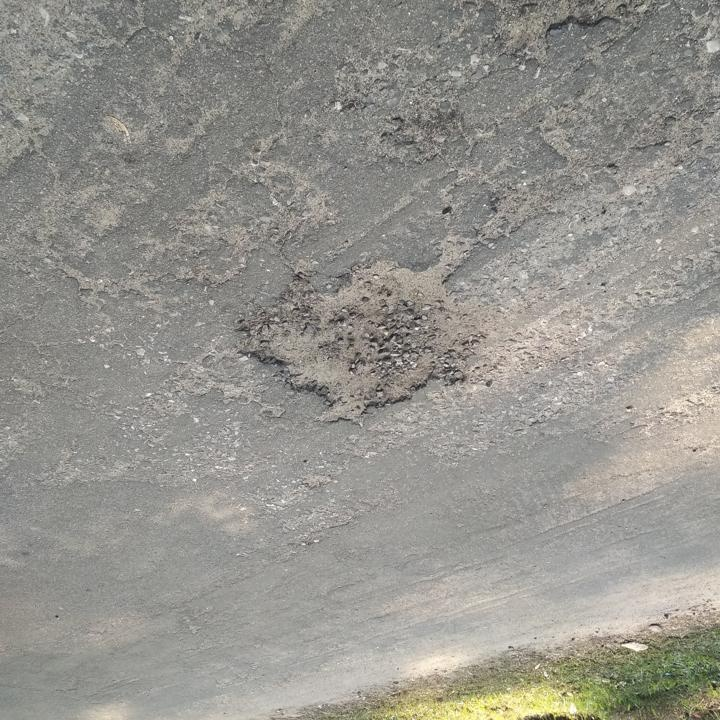pothole: (232, 256, 504, 430), (483, 0, 645, 62)
